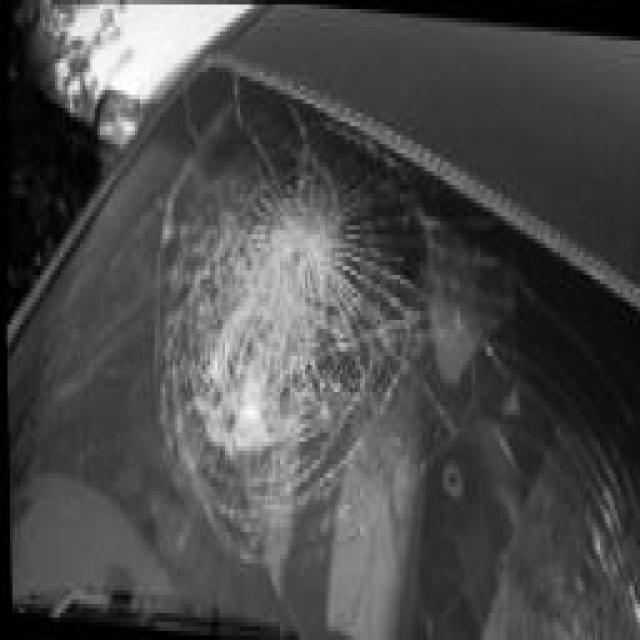Windshield: (50, 68, 639, 639)
